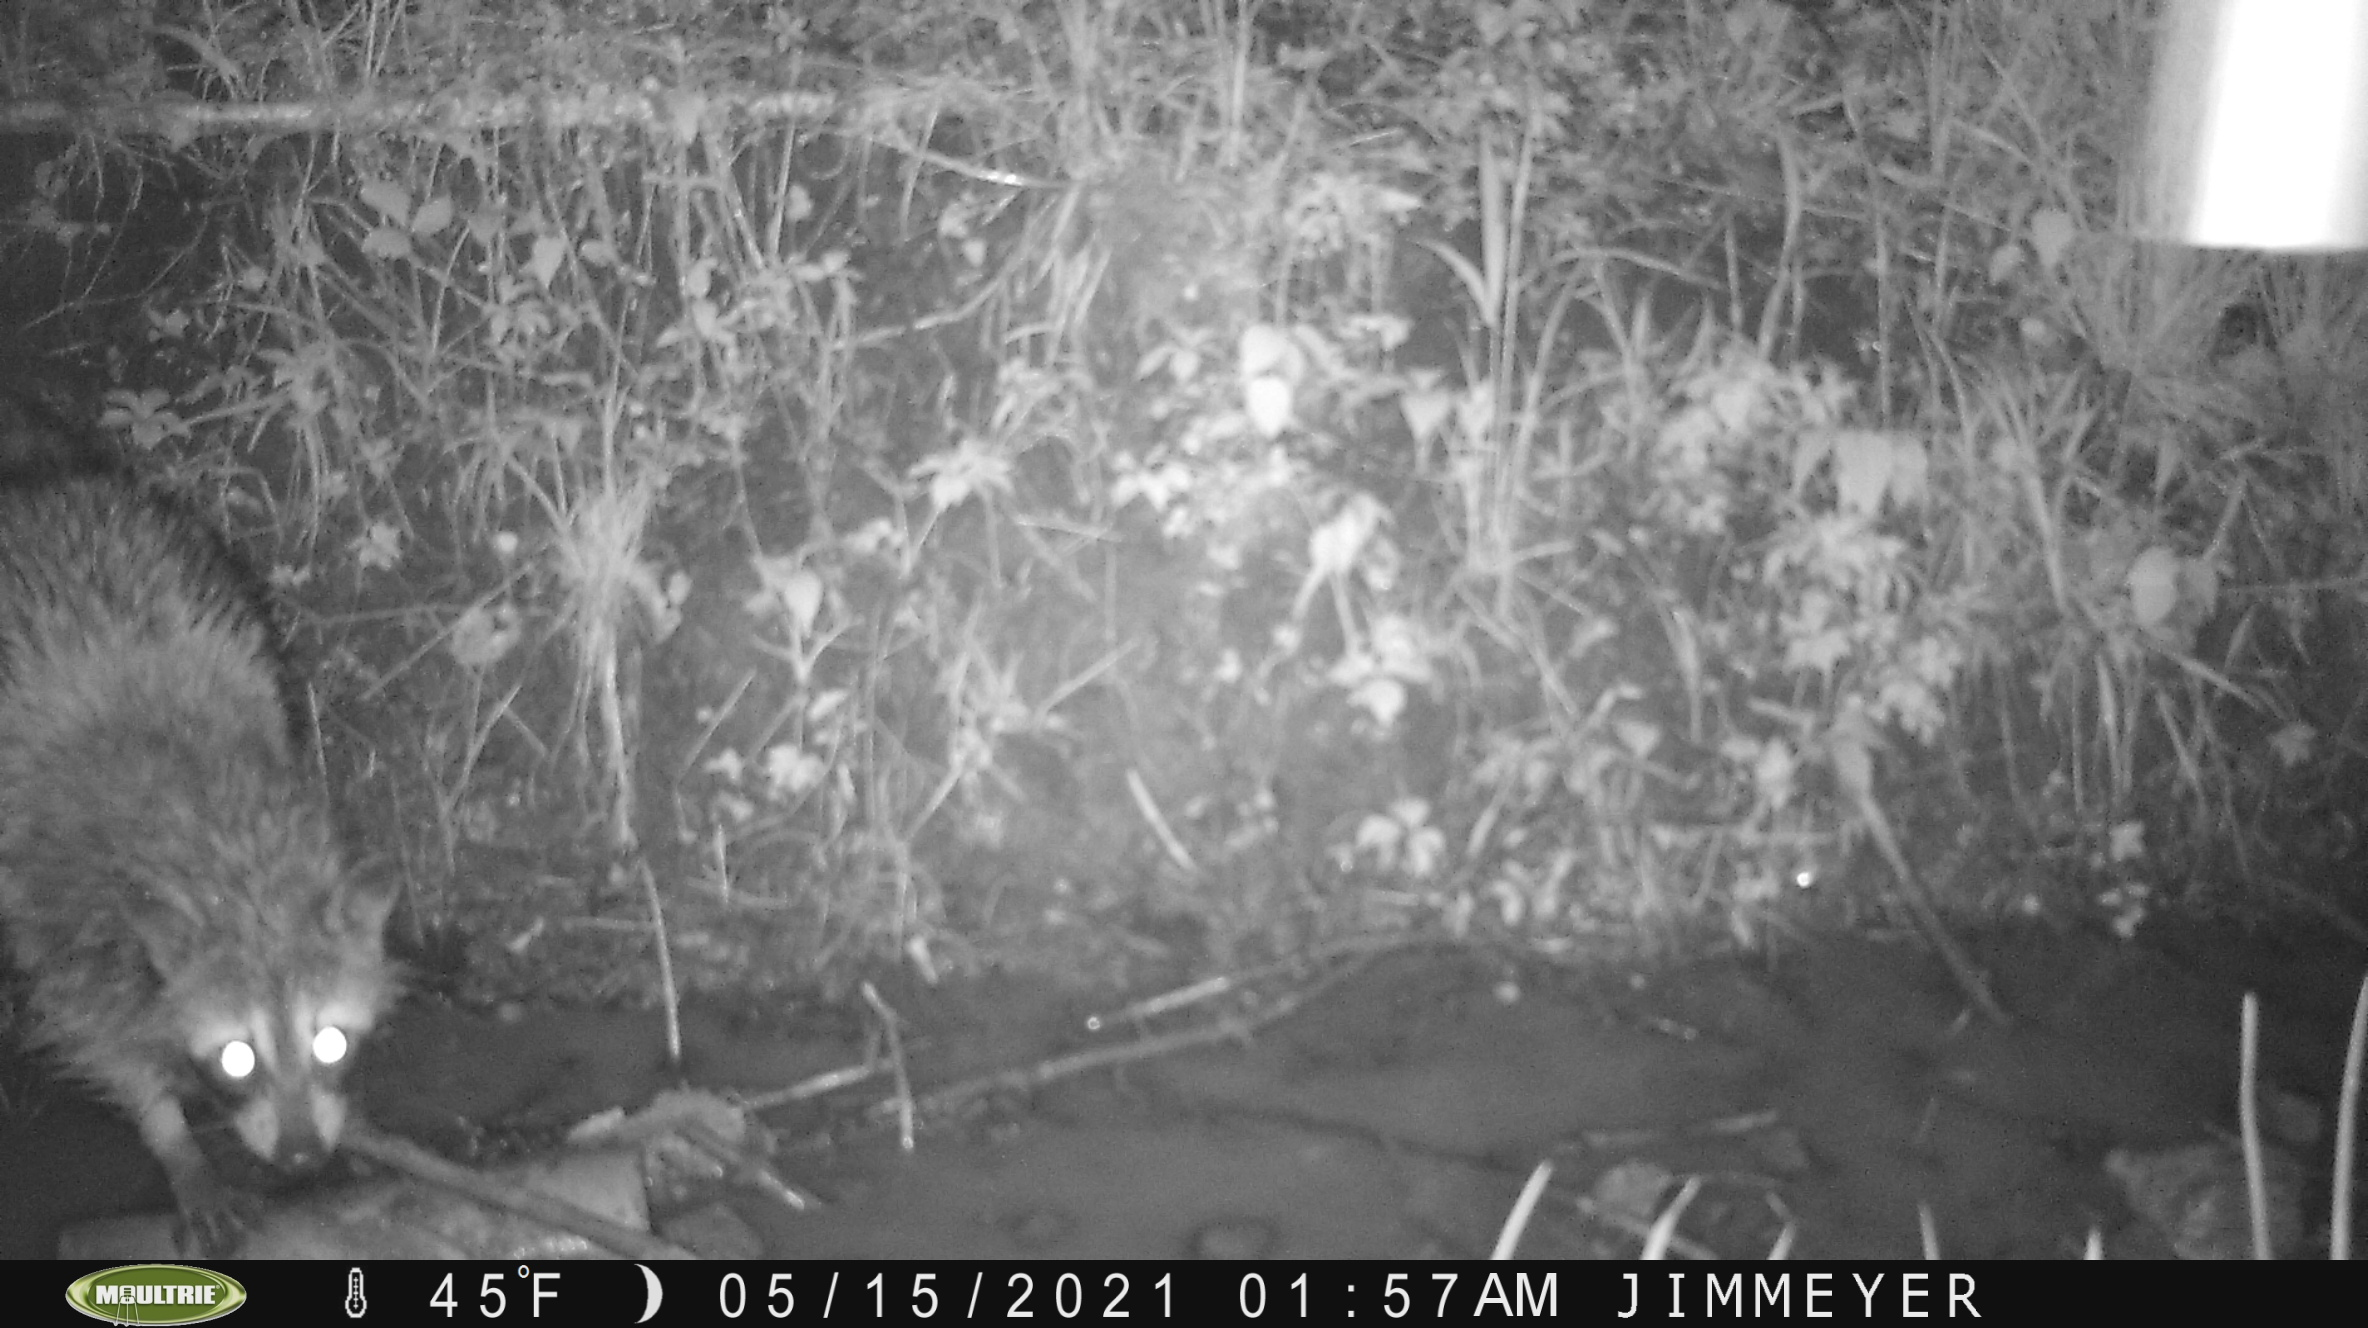Raccoon: (2, 388, 418, 1260)
